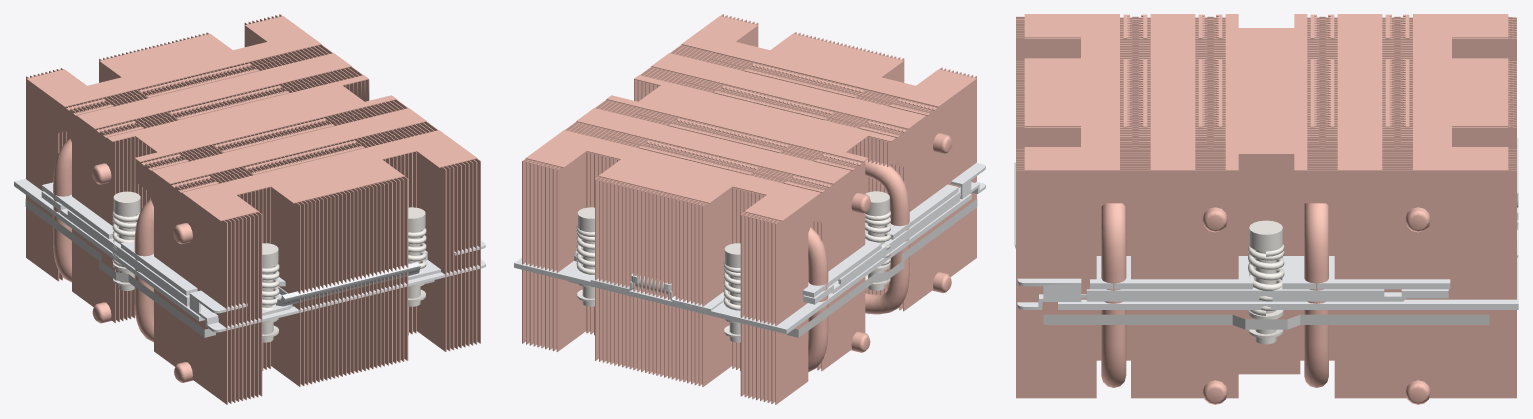
File: cosmo-heatsink-1.glb
3 views of the same model, side by side, from view 1: azimuth 30°, elevation 25°; view 2: azimuth 150°, elevation 25°; view 3: azimuth 270°, elevation 25° (orthographic). The views are drawn at different scales.
Visible parts, largest first — view 1: Cube.126, OXC991-0000150_sm-SHARKFIN BRACKET, COSMO.025, Cylinder.032, Plane.027; view 2: Cube.126, OXC991-0000150_sm-SHARKFIN BRACKET, COSMO.025, Cylinder.032, Plane.027; view 3: Cube.126, OXC991-0000150_sm-SHARKFIN BRACKET, COSMO.025, Plane.027, Cylinder.032.
Boxes of the visible parts, box(x1,y1,x2,y2) form: Cube.126: box(26, 14, 480, 404); OXC991-0000150_sm-SHARKFIN BRACKET, COSMO.025: box(14, 178, 485, 332); Cylinder.032: box(112, 191, 426, 342); Plane.027: box(25, 199, 434, 337); Cube.126: box(522, 14, 976, 404); OXC991-0000150_sm-SHARKFIN BRACKET, COSMO.025: box(514, 162, 985, 334); Cylinder.032: box(576, 191, 890, 342); Plane.027: box(568, 199, 977, 337); Cube.126: box(1016, 14, 1516, 404); OXC991-0000150_sm-SHARKFIN BRACKET, COSMO.025: box(1014, 138, 1518, 309); Plane.027: box(1043, 314, 1489, 329); Cylinder.032: box(1248, 220, 1284, 344).
Bounding box in the file's own units: 3198 × 1982 × 3893.
